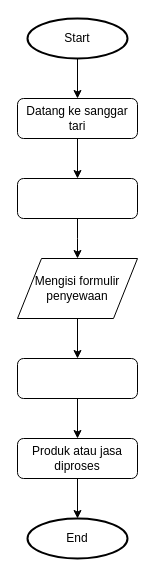
The diagram is 155 pixels wide and 576 high, and some of its shapes have lost their labels. The shapes that lost their labels are listed below. From the top down, each one's box as (x1, y1, x2, y2) in pixels, then its label:
(16, 178, 138, 218): Memilih produk atau jasa
(16, 358, 138, 398): Pembayaran
